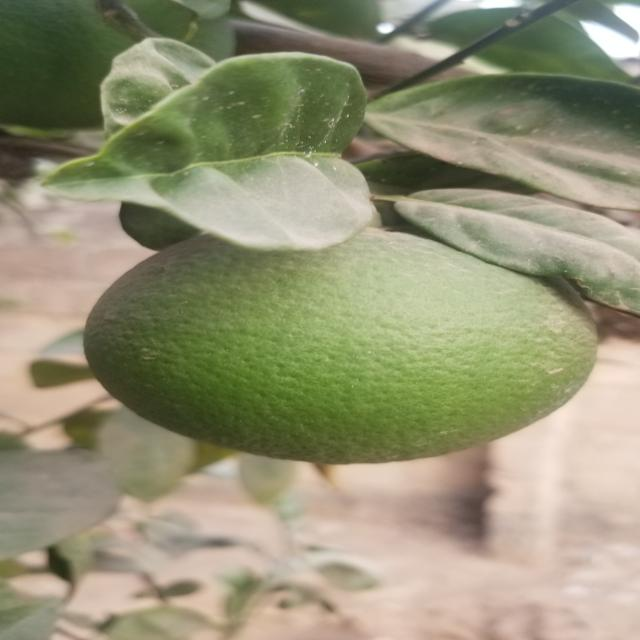Unripe: (85, 227, 604, 463)
